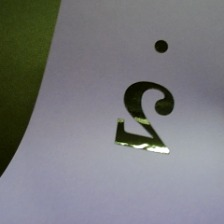violet2: (105, 33, 182, 162)
